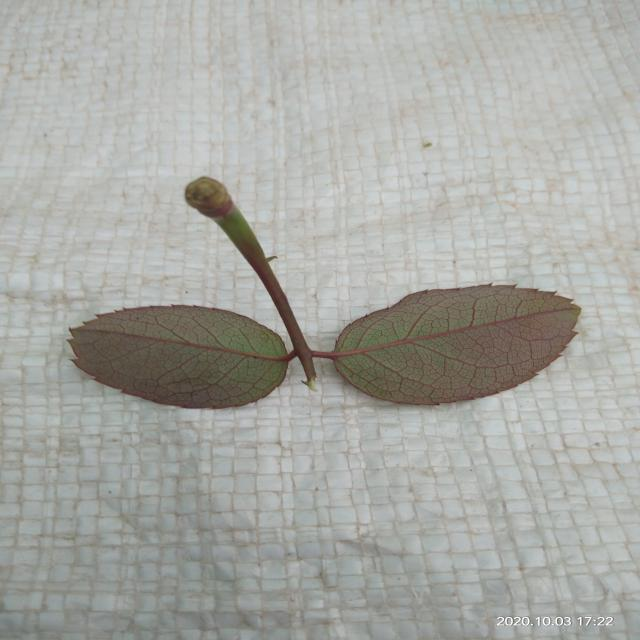rose: (310, 285, 580, 405), (68, 305, 297, 408)
